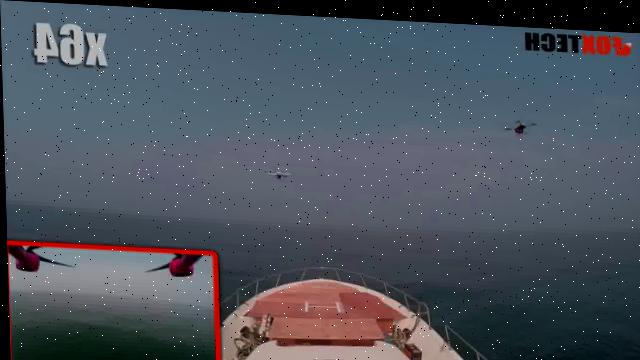drone: (504, 101, 549, 134), (258, 155, 303, 181)
